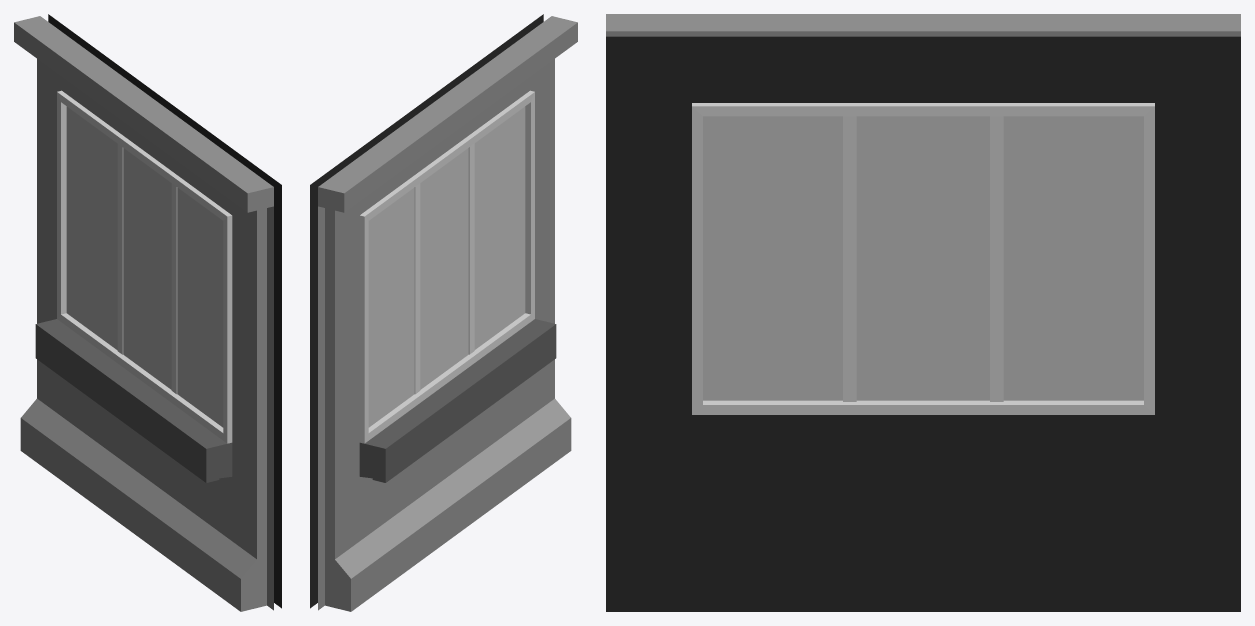
The model's file is Window_03_Interior.FBX.
3 renders of one model, left to right at view 1: azimuth 30°, elevation 25°; view 2: azimuth 150°, elevation 25°; view 3: azimuth 270°, elevation 25°, orthographic. The views are drawn at different scales.
Visible parts, largest first — view 1: Window_03_Interior_LOD0; view 2: Window_03_Interior_LOD0; view 3: Window_03_Interior_LOD0.
Part boxes in pixels (x1=…): Window_03_Interior_LOD0: x1=14, y1=14, x2=281, y2=611; Window_03_Interior_LOD0: x1=310, y1=14, x2=577, y2=611; Window_03_Interior_LOD0: x1=606, y1=14, x2=1240, y2=611.
Size of what is drawn, in the model's own units: 21.84 by 180 by 180.
